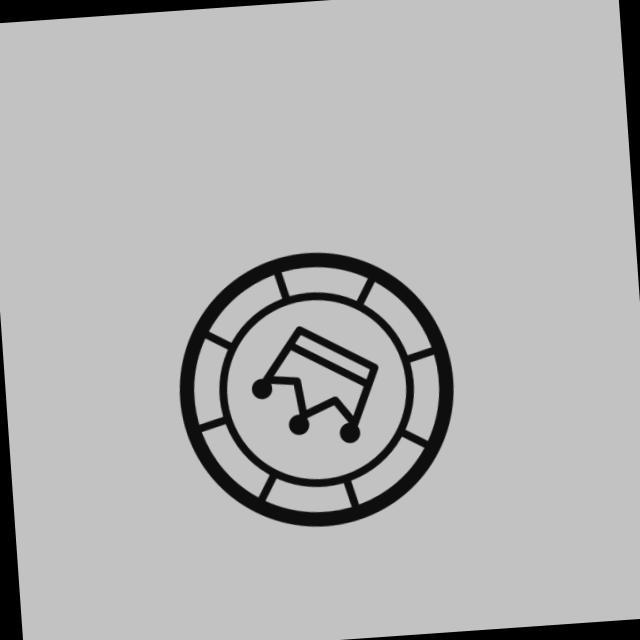coin: (163, 235, 470, 542)
